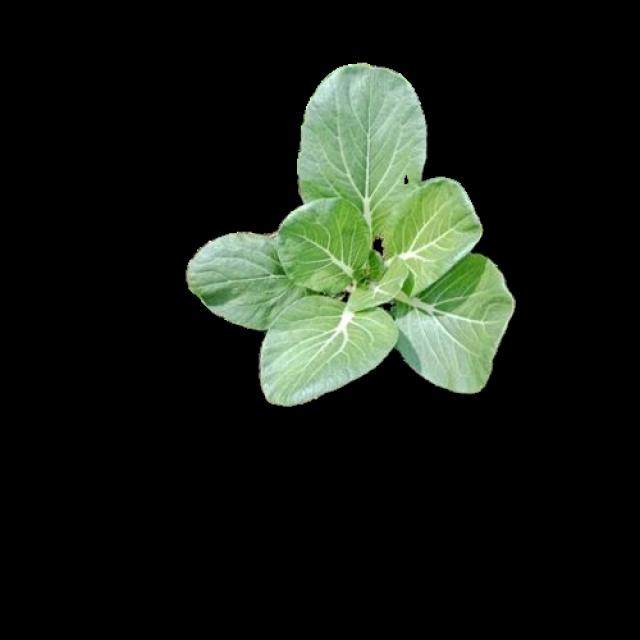mature: (185, 63, 516, 411)
unhealthy: (300, 64, 430, 237)
